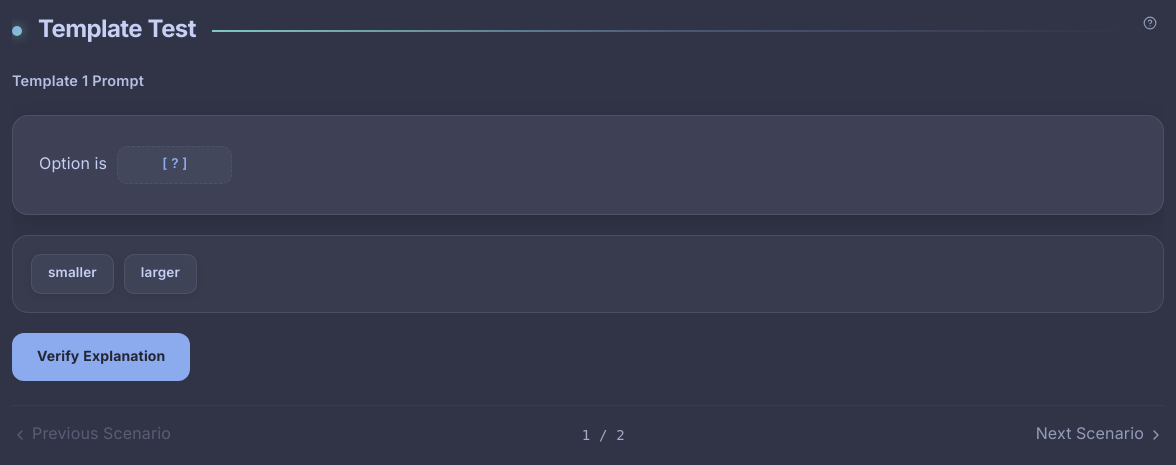
ReflectionTemplate Multi-Scenario › renders first scenario and transitions correctly
Expected: the text "Template 1 Prompt" is shown, left=12, top=71, right=144, bottom=94
Expected: the text "smaller" is shown, left=31, top=254, right=114, bottom=294
Navigate to second scenario
Click the button "Next Scenario": coordinates (1100, 435) left=1036, top=422, right=1164, bottom=448
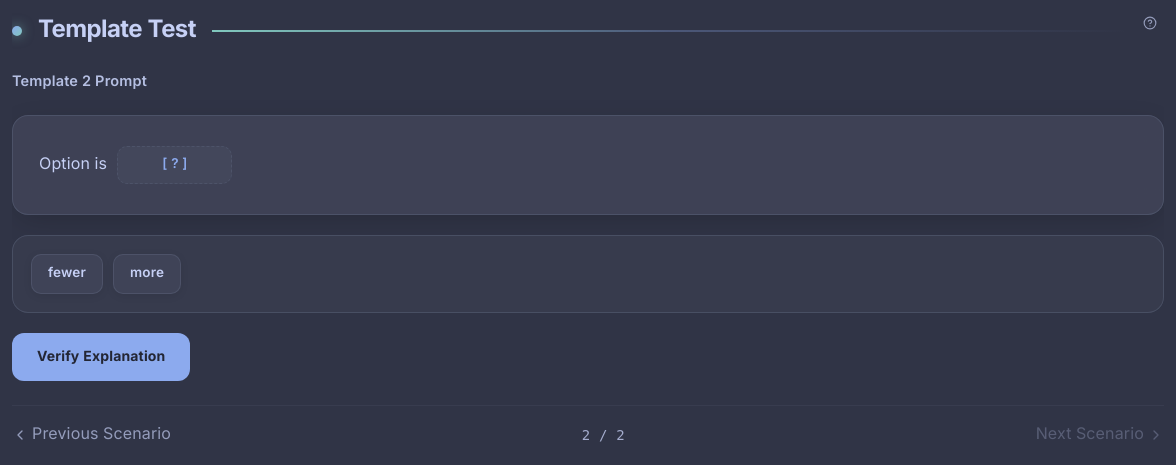
Expected: the text "Template 2 Prompt" is shown, left=12, top=71, right=147, bottom=94
Expected: the text "fewer" is shown, left=31, top=254, right=103, bottom=294
Expected: the text "Template 1 Prompt" is gone
